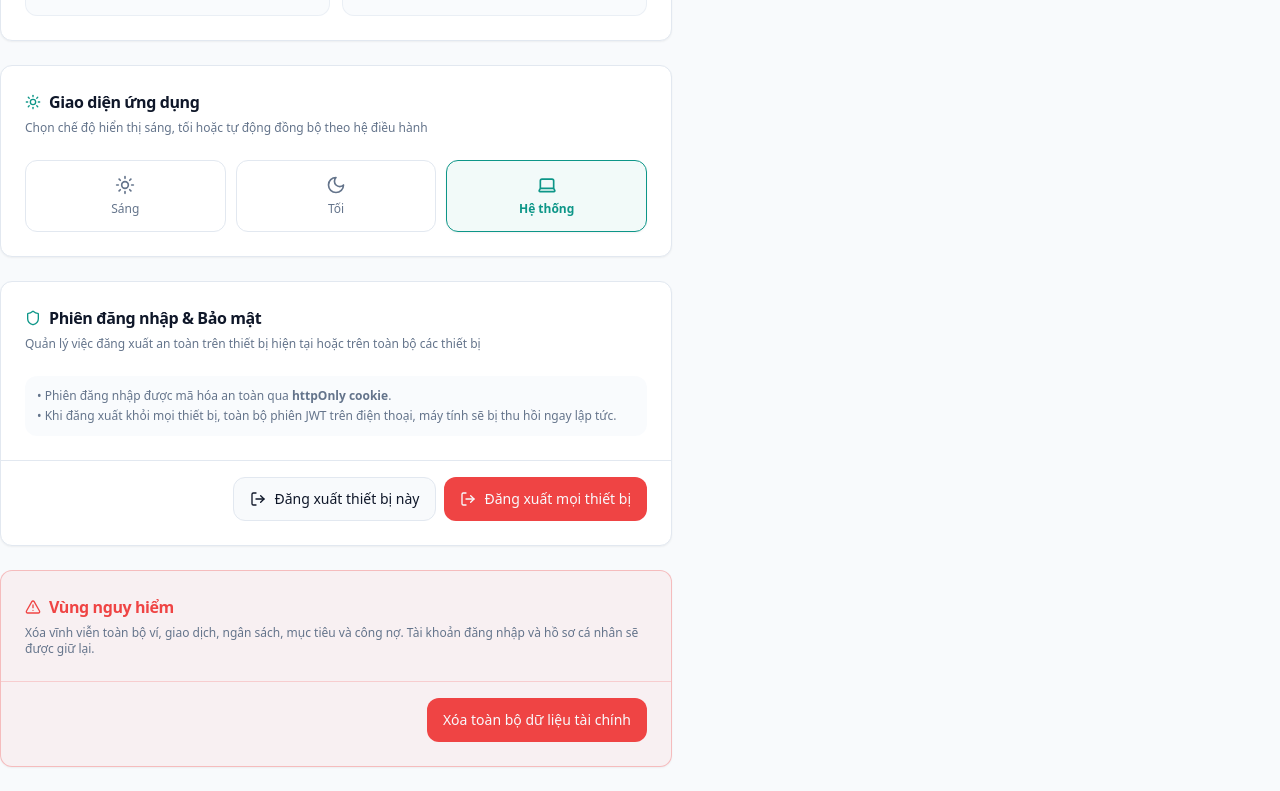
SettingsPage Component Test › hiển thị quy trình 2 bước khi chọn xóa toàn bộ dữ liệu tài chính
Later steps or results of the test are not shown.
(page scrolled)
# Nhấn nút xóa ở Card Vùng nguy hiểm
Click the button "Xóa toàn bộ dữ liệu tài chính": (537, 720) [427,698,647,742]
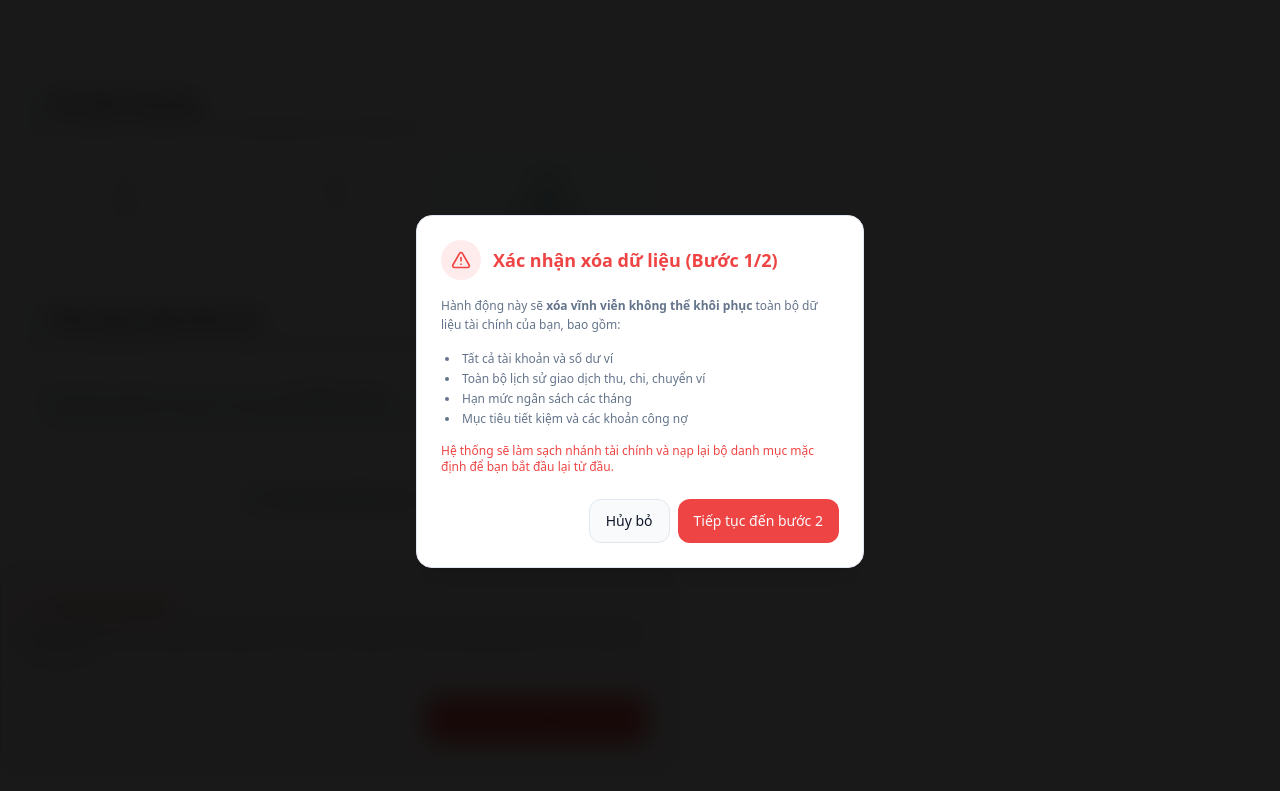
Expected: the heading "Xác nhận xóa dữ liệu (Bước 1/2)" is shown, [493,246,778,274]
# Chuyển sang Bước 2
Click the button "Tiếp tục đến bước 2": (758, 520) [678,498,839,542]
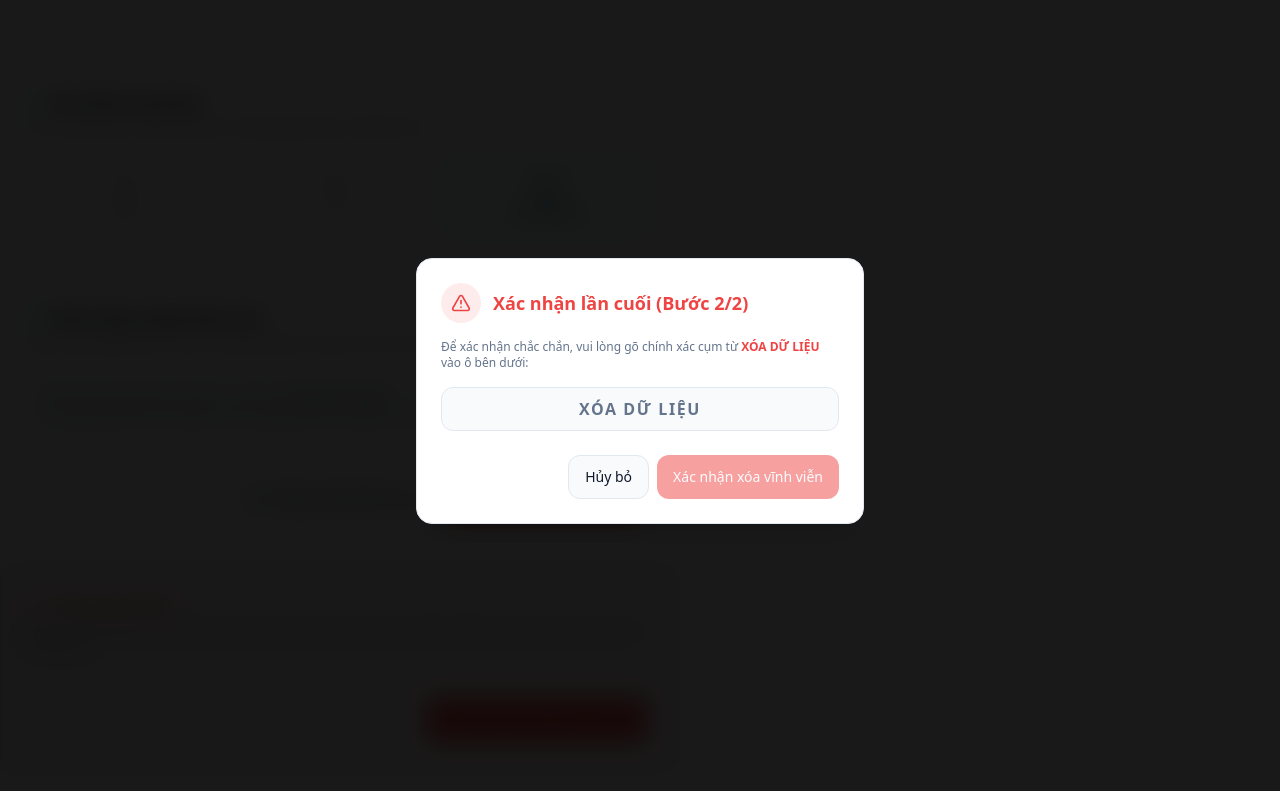
Expected: the heading "Xác nhận lần cuối (Bước 2/2)" is shown, [493,289,748,317]
In the field with placeholder "XÓA DỮ LIỆU": (640, 409) [441,387,839,431], type "sai roi"
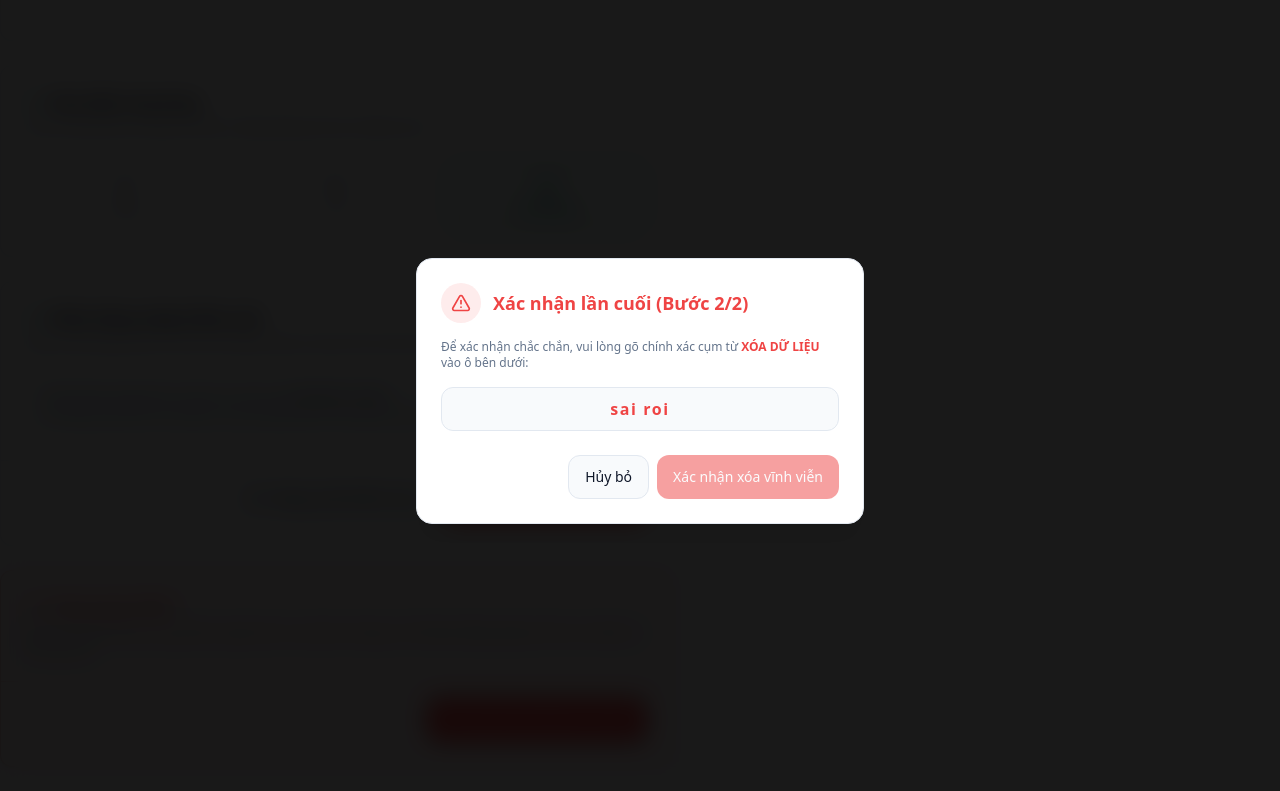
Expected: the button "Xác nhận xóa vĩnh viễn" is disabled, [657,455,839,499]
Replace the text in the field with placeholder "XÓA DỮ LIỆU" with "XÓA DỮ LIỆU": (640, 409) [441,387,839,431]
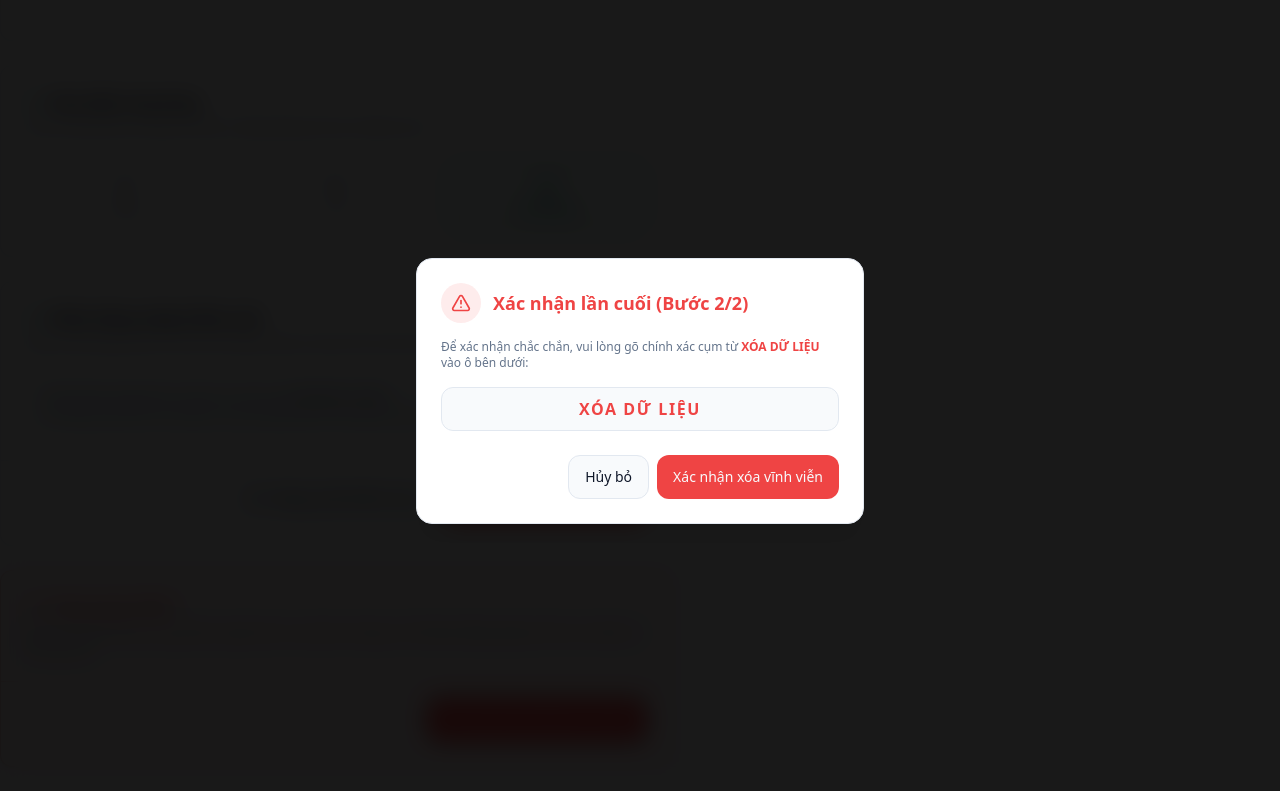
Expected: the button "Xác nhận xóa vĩnh viễn" is enabled, [657,455,839,499]
